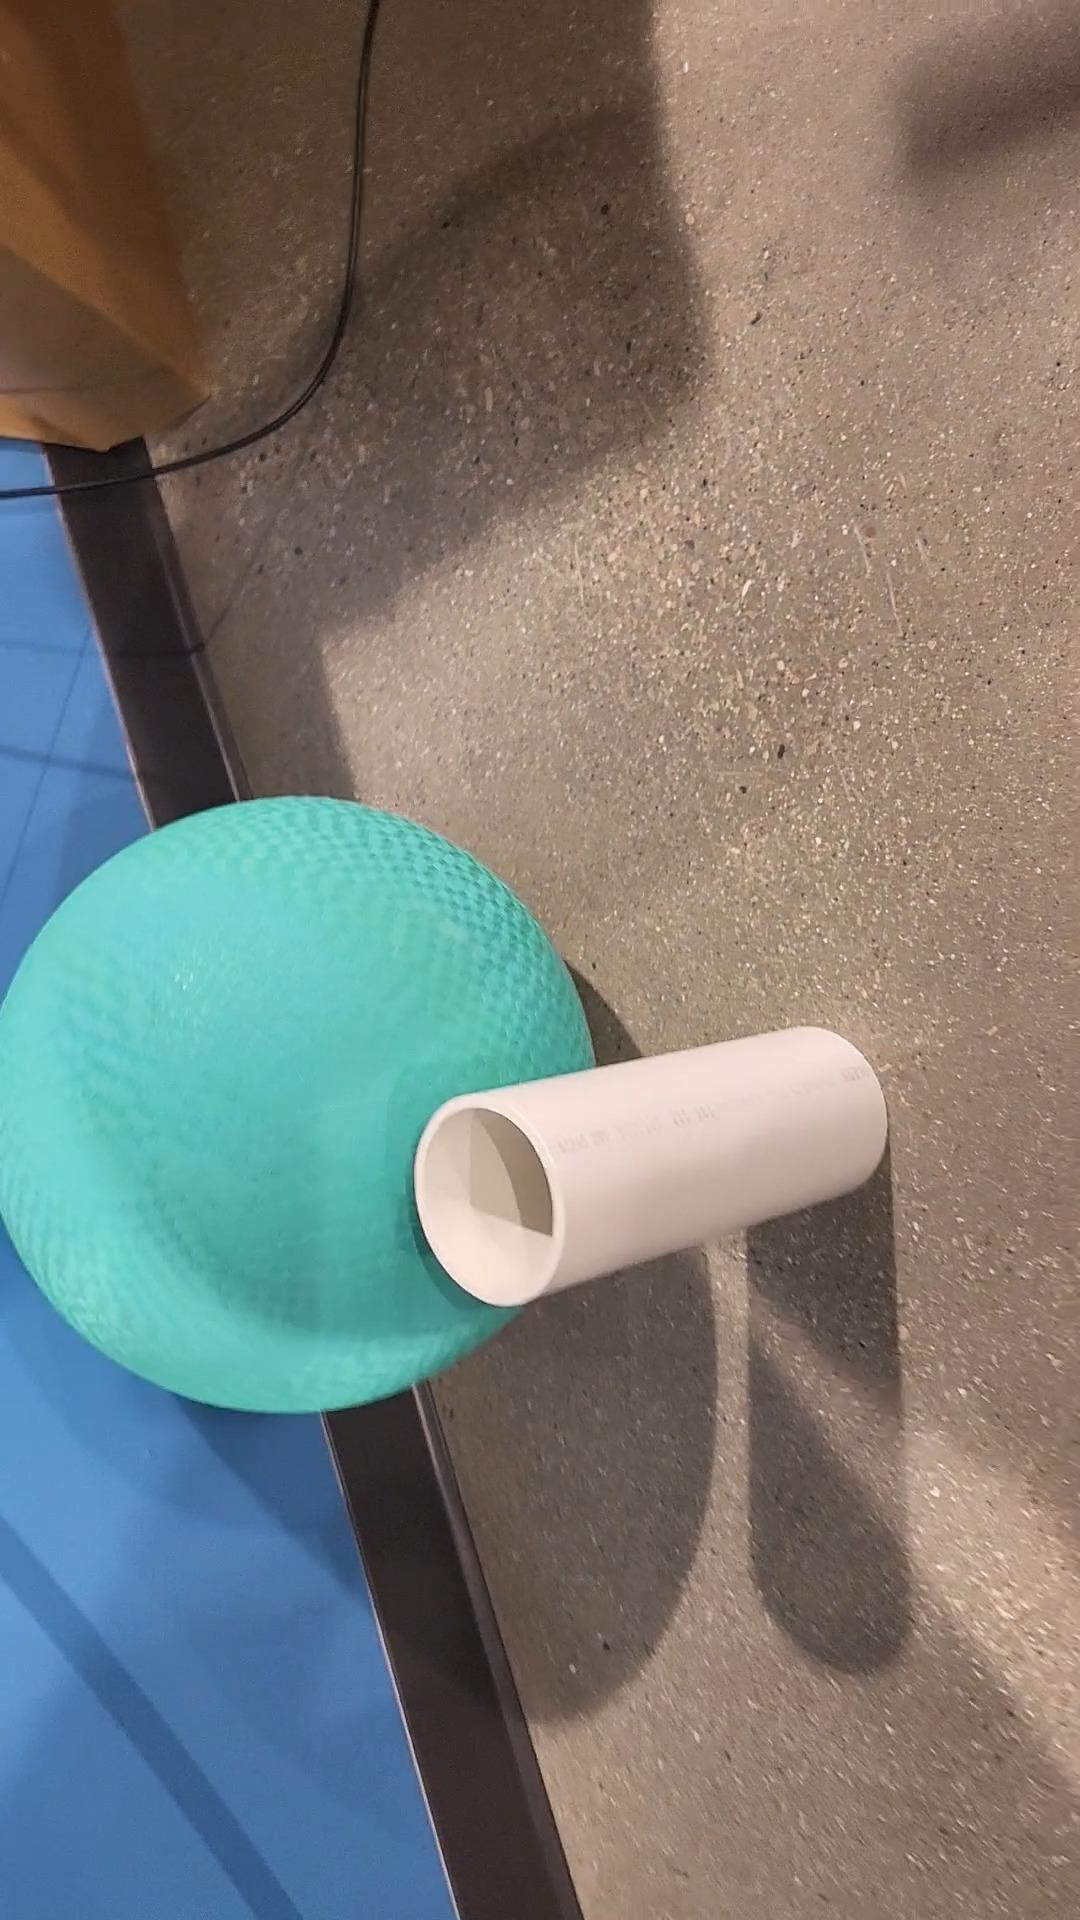algae: (0, 793, 597, 1415)
coral: (415, 1025, 887, 1303)
